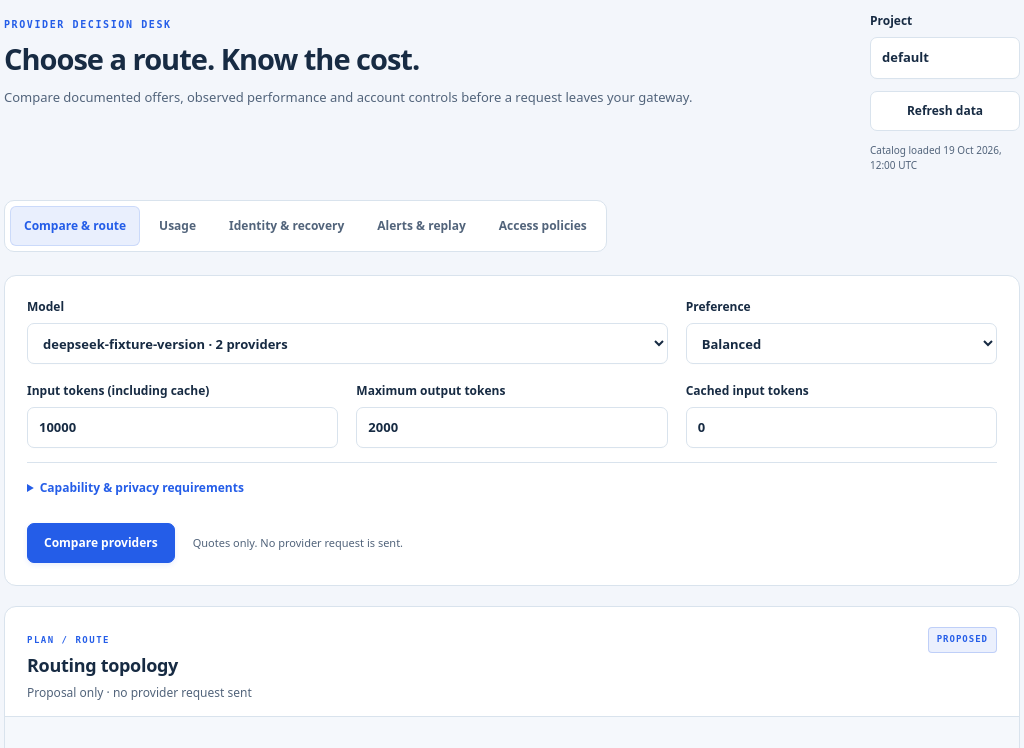
Gateway provider decision desk › compares without executing and shows an itemised cost reserve
Click the button "Compare providers" at x=101, y=543, box [27, 523, 175, 563]
(page scrolled)
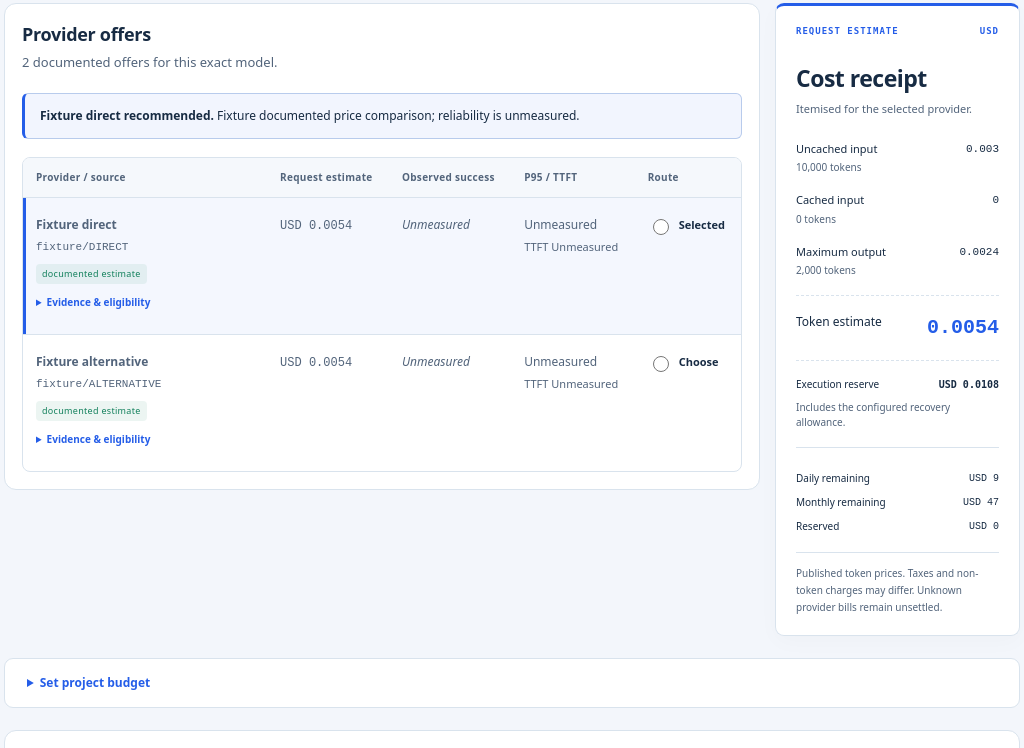
Expected: the text "Fixture documented price comparison" is shown, [217, 106, 580, 124]
Expected: the text "0.003" is shown, [966, 142, 999, 154]
Expected: the text "0.0024" is shown, [959, 246, 999, 258]
